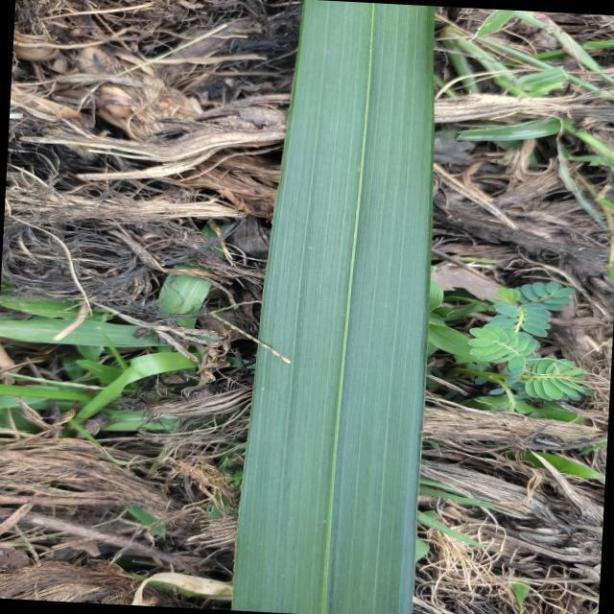Healthy: (235, 0, 430, 614)
